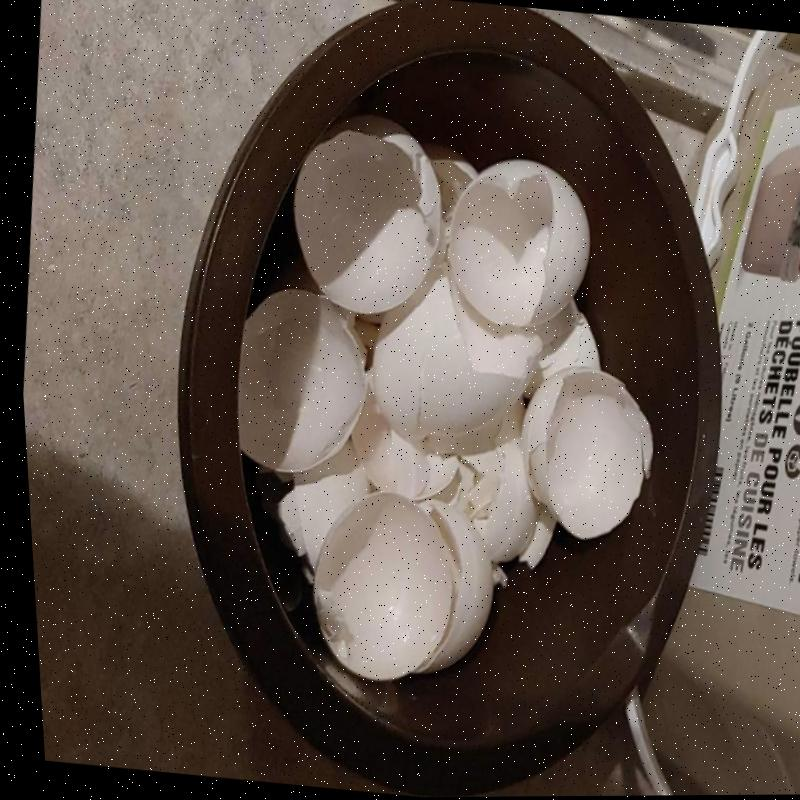egg shell: (364, 274, 541, 440), (293, 115, 438, 307), (309, 493, 454, 681), (234, 287, 363, 474), (445, 159, 588, 327), (518, 366, 650, 540), (431, 397, 555, 569), (412, 500, 492, 673), (275, 444, 370, 576), (349, 386, 457, 500), (522, 298, 599, 400)
